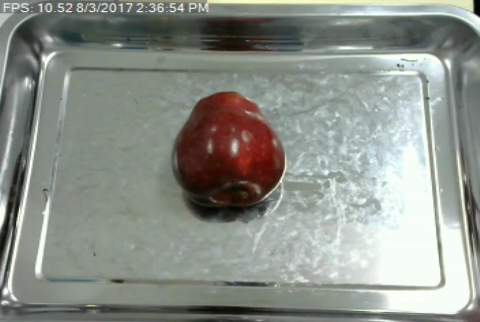Apple: (169, 92, 289, 213)
